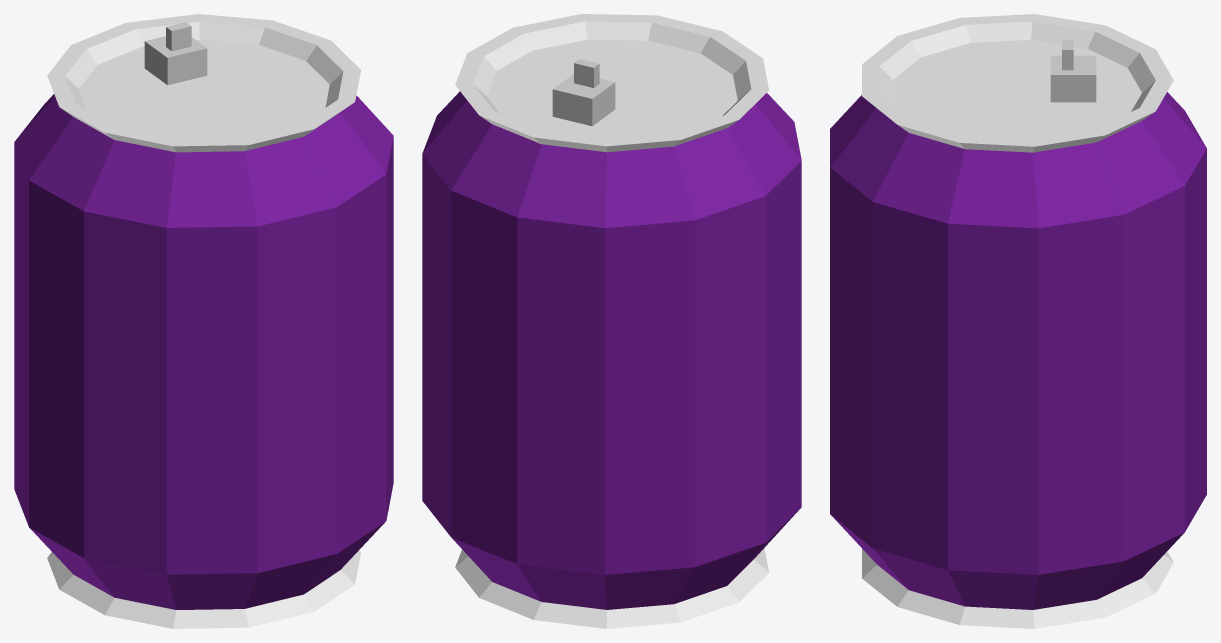
The model's file is can_purple.glb.
3 renders of one model, left to right at view 1: azimuth 30°, elevation 25°; view 2: azimuth 150°, elevation 25°; view 3: azimuth 270°, elevation 25°, orthographic.
Visible parts, largest first — view 1: Cylinder.001_Material.001_0, Cylinder.001_Material.002_0, Cylinder.001_Material.003_0; view 2: Cylinder.001_Material.001_0, Cylinder.001_Material.002_0, Cylinder.001_Material.003_0; view 3: Cylinder.001_Material.001_0, Cylinder.001_Material.002_0, Cylinder.001_Material.003_0.
Boxes of the visible parts, x1,y1,x2,y2 form: Cylinder.001_Material.001_0: [14, 94, 393, 609]; Cylinder.001_Material.002_0: [47, 14, 360, 628]; Cylinder.001_Material.003_0: [144, 22, 207, 85]; Cylinder.001_Material.001_0: [422, 91, 801, 609]; Cylinder.001_Material.002_0: [455, 14, 768, 628]; Cylinder.001_Material.003_0: [552, 59, 615, 126]; Cylinder.001_Material.001_0: [830, 92, 1206, 609]; Cylinder.001_Material.002_0: [862, 14, 1173, 628]; Cylinder.001_Material.003_0: [1050, 40, 1096, 102].
Size of the model in its own units: 199 by 299 by 197.
